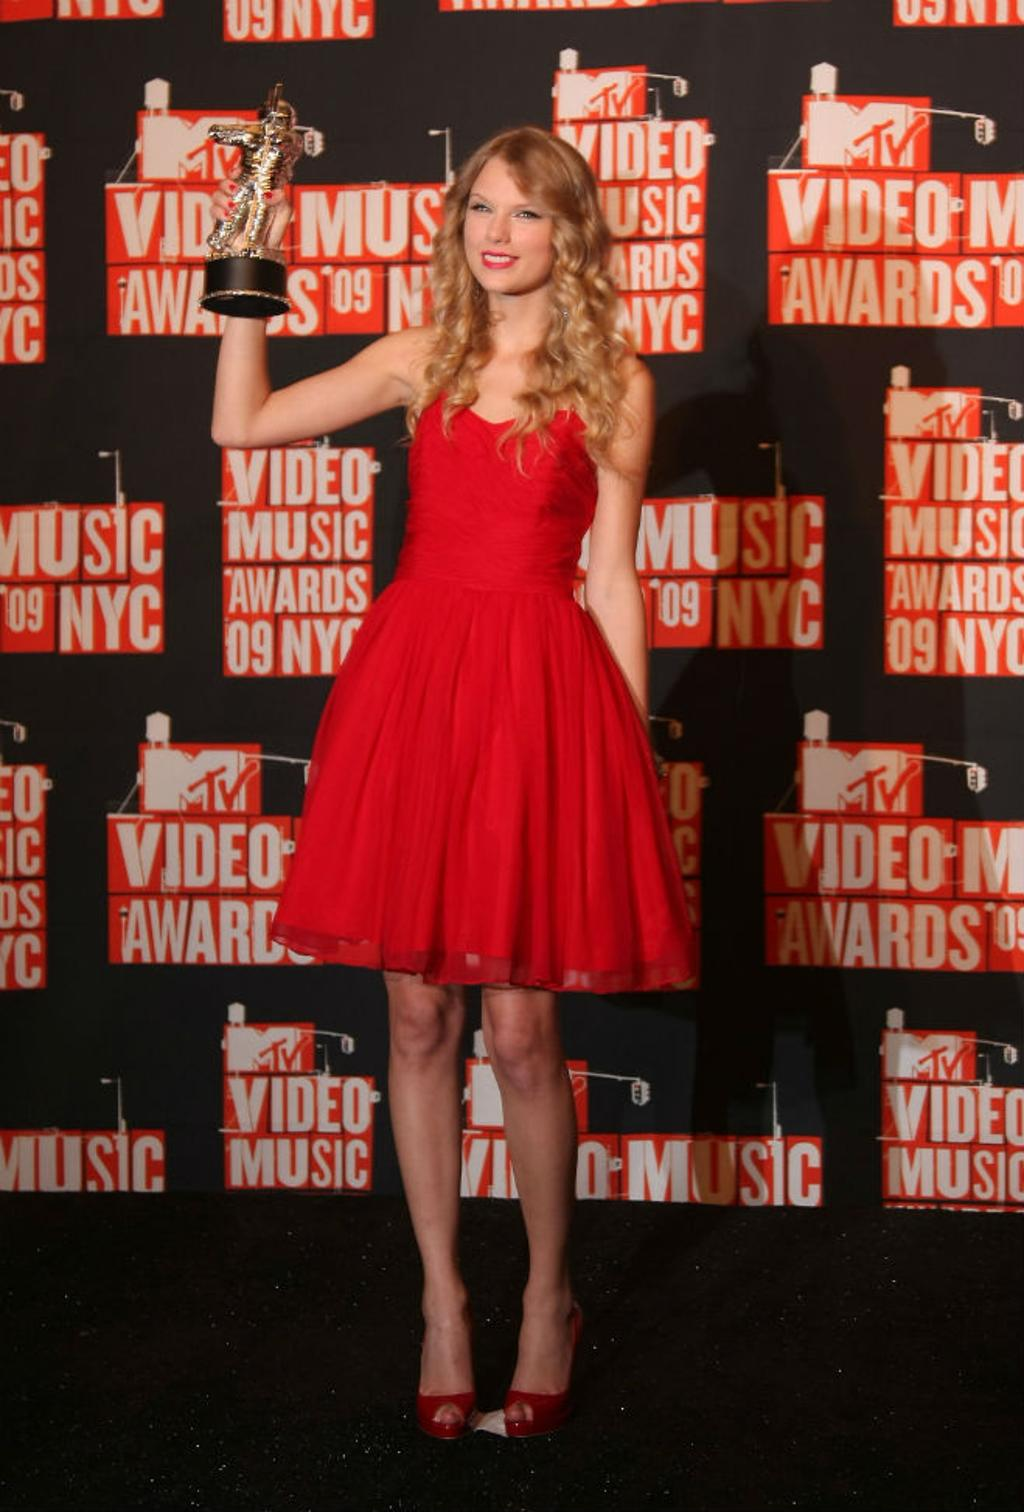face: (466, 159, 560, 289)
